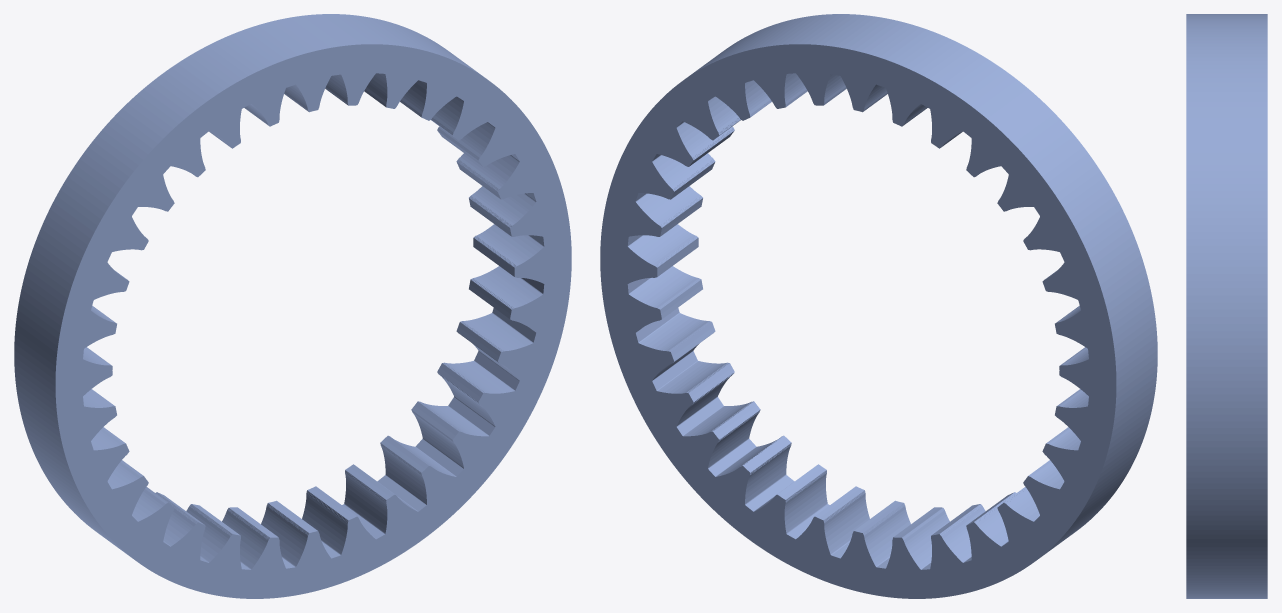
File: ring_gear_demo.glb
3 renders of one model, left to right at view 1: azimuth 30°, elevation 25°; view 2: azimuth 150°, elevation 25°; view 3: azimuth 270°, elevation 25°, orthographic.
Parts seen in each view (by area): view 1: internal_ring_gear; view 2: internal_ring_gear; view 3: internal_ring_gear.
Boxes of the visible parts, x1,y1,x2,y2 form: internal_ring_gear: (14,14,571,598); internal_ring_gear: (600,14,1157,598); internal_ring_gear: (1186,14,1267,598).
Bounding box in the file's own units: 57.75 × 57.75 × 8.
